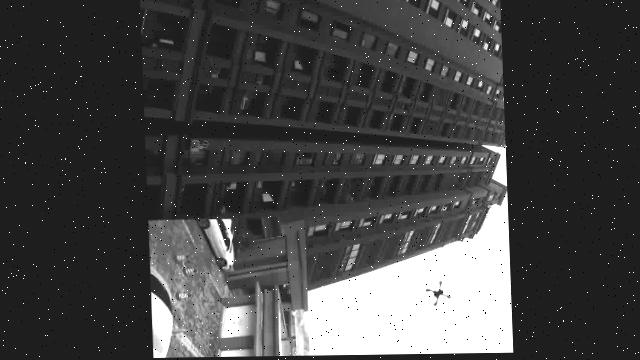drone: (423, 277, 454, 309)
